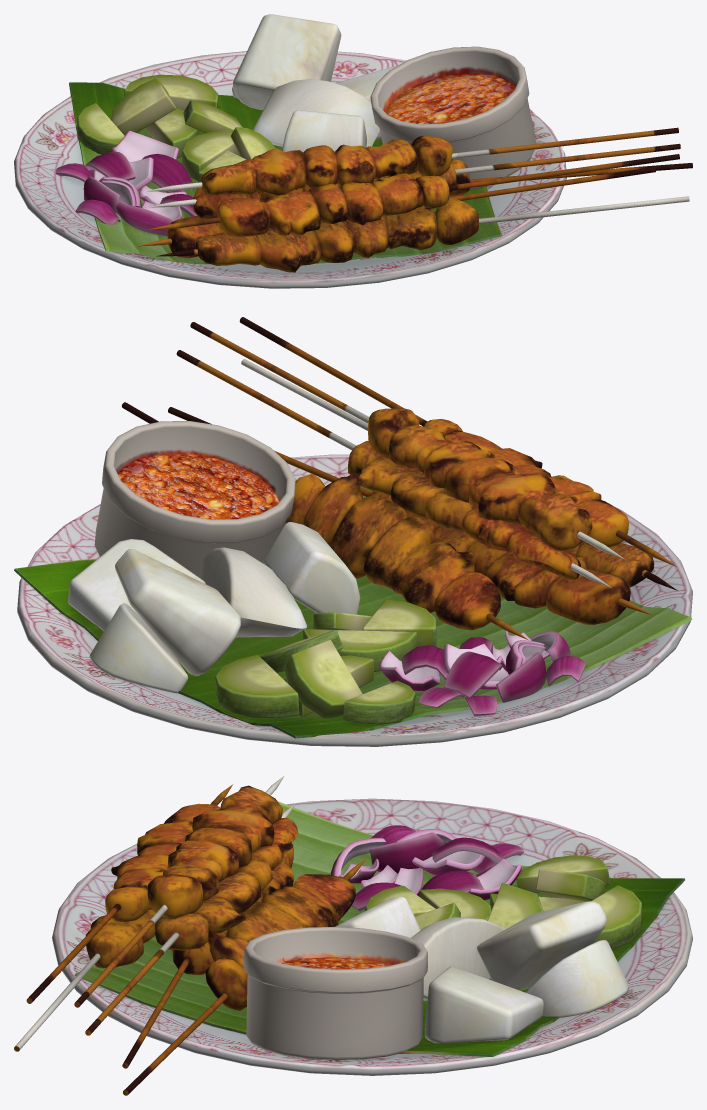
File: F006_Satay.fbx
The picture shows the model from 3 angles, top to bottom: view 1: azimuth 30°, elevation 25°; view 2: azimuth 150°, elevation 25°; view 3: azimuth 270°, elevation 25°; orthographic projection. The views are drawn at different scales.
Visible parts, largest first — view 1: F006_Satay; view 2: F006_Satay; view 3: F006_Satay.
Boxes of the visible parts, x1,y1,x2,y2 form: F006_Satay: (14,14,692,288); F006_Satay: (14,317,692,746); F006_Satay: (14,776,692,1095).
Bounding box in the file's own units: 79.15 × 15.99 × 75.03.
